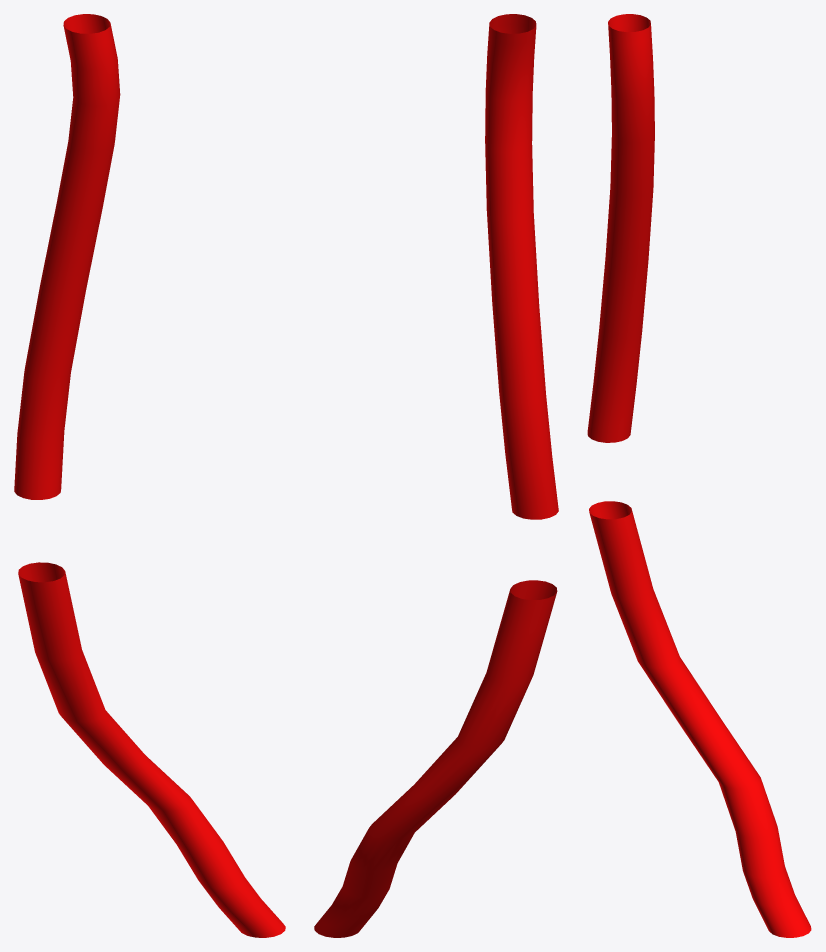
File: wire_broken_2.gltf
3 views of the same model, side by side, from view 1: azimuth 30°, elevation 25°; view 2: azimuth 150°, elevation 25°; view 3: azimuth 330°, elevation 25° (orthographic). The views are drawn at different scales.
Parts seen in each view (by area): view 1: wire_broken_2c; view 2: wire_broken_2c; view 3: wire_broken_2c.
Part boxes in pixels (x1=…): wire_broken_2c: x1=14, y1=14, x2=285, y2=937; wire_broken_2c: x1=314, y1=14, x2=558, y2=937; wire_broken_2c: x1=587, y1=14, x2=811, y2=937.
Bounding box in the file's own units: 0.4365 × 1.56 × 0.1408.
